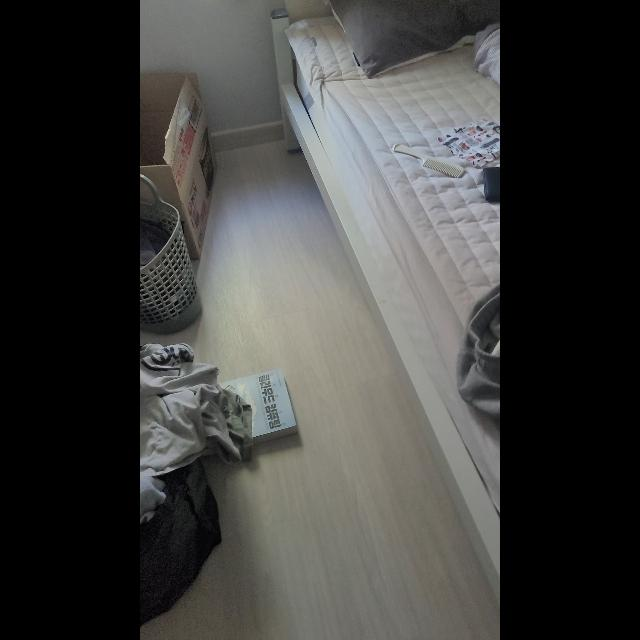COMB: (392, 144, 464, 178)
Glasses cleaning cloth: (438, 118, 500, 168)
WALLET: (484, 166, 501, 204)
